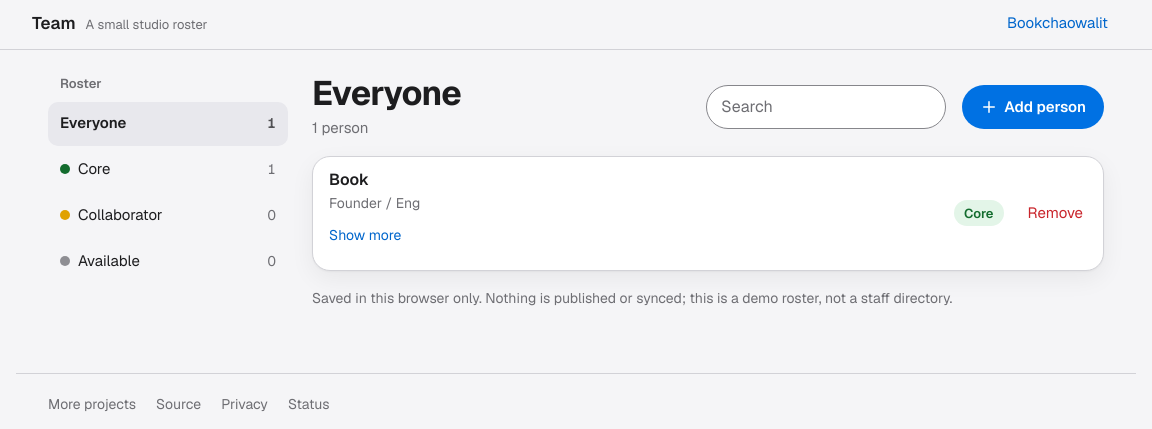
long roles › a clipped role gets Show more / Show less
The width and height of the screenshot is (1152, 429).
What coordinates should you click on to do the following:
click the button "Show more"
I would click on:
 (365, 236)
Its box is [329,214,401,258].
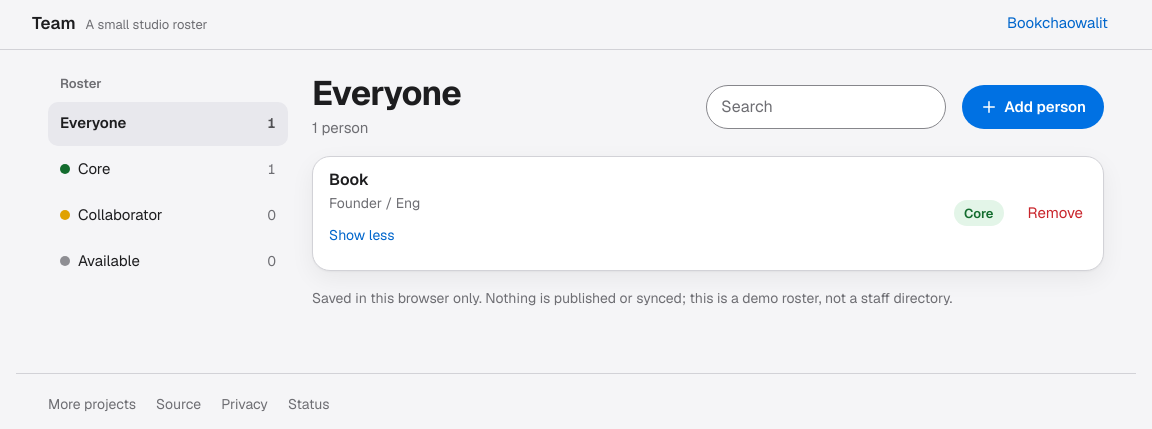
Check: the button "Show less" is expanded, box [329,214,394,258]
